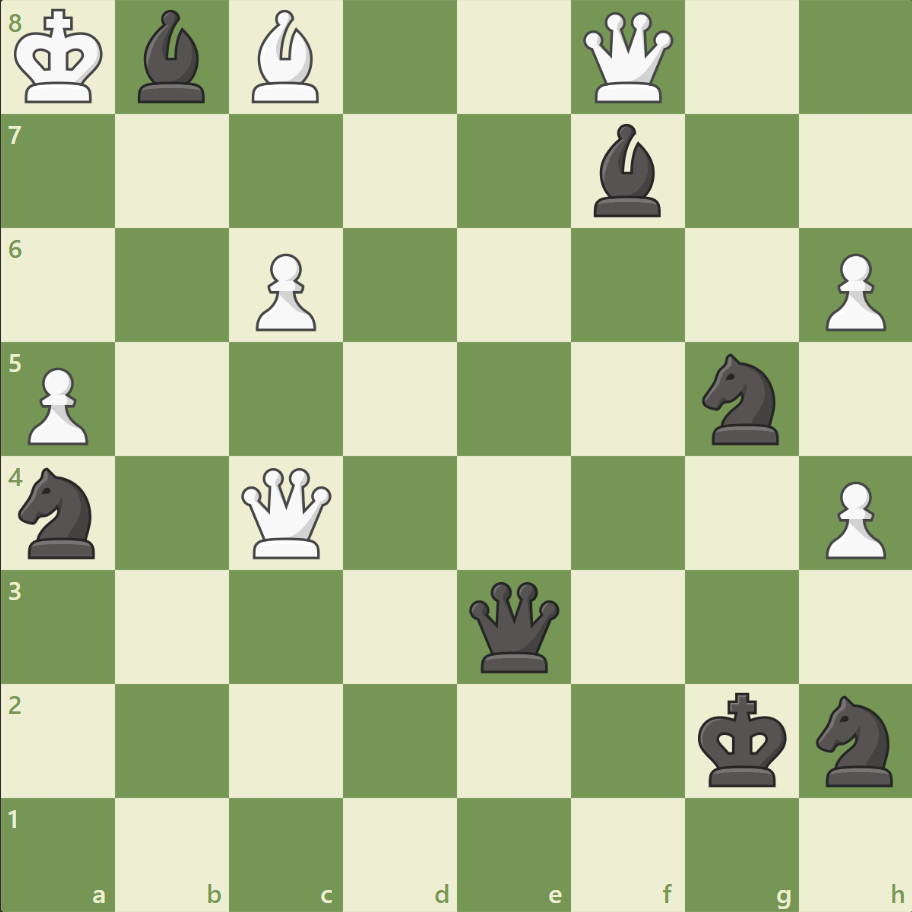B: (244, 6, 328, 109)
K: (11, 4, 111, 112)
P: (247, 246, 322, 337), (20, 359, 95, 450), (815, 246, 889, 337), (815, 473, 889, 564)
Q: (578, 9, 677, 108), (237, 463, 336, 562)
b: (131, 6, 215, 109), (585, 120, 669, 222)
k: (692, 685, 792, 793)
n: (11, 461, 108, 564), (806, 688, 903, 791), (692, 348, 789, 450)
q: (464, 576, 563, 676)
